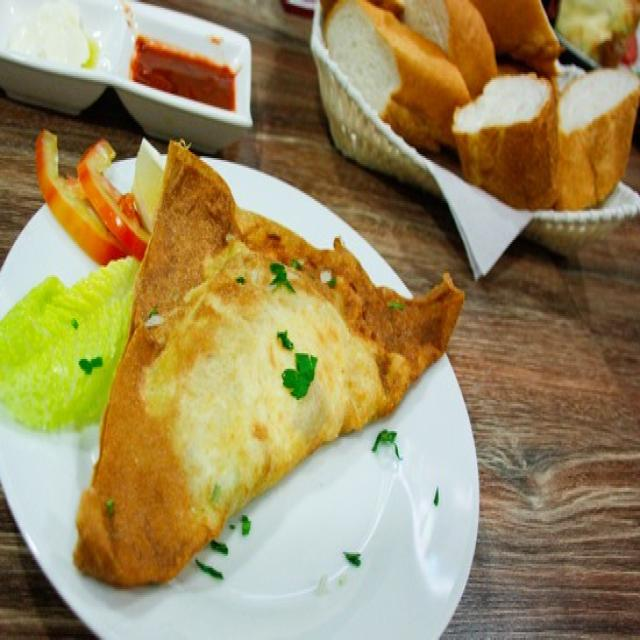brik: (78, 138, 456, 602)
